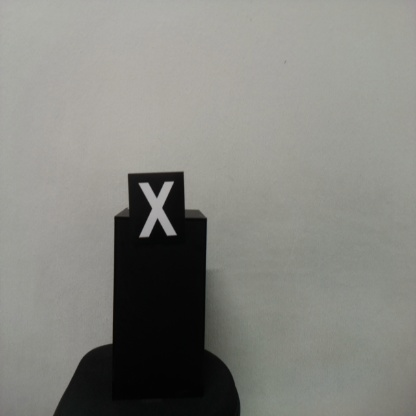id_13: (127, 173, 186, 252)
